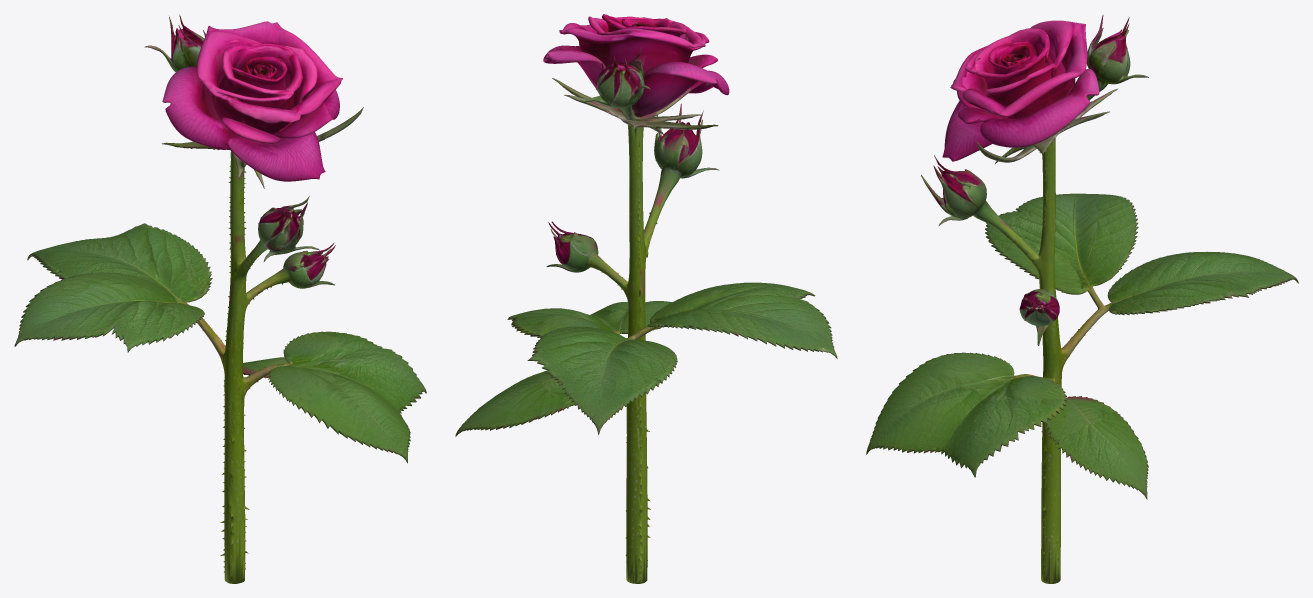
Rendered from meiguihua.glb.
3 renders of one model, left to right at view 1: azimuth 30°, elevation 25°; view 2: azimuth 150°, elevation 25°; view 3: azimuth 270°, elevation 25°, orthographic. The views are drawn at different scales.
Visible parts, largest first — view 1: node_0; view 2: node_0; view 3: node_0.
Boxes of the visible parts, x1,y1,x2,y2 form: node_0: (14, 14, 426, 583); node_0: (455, 14, 837, 583); node_0: (866, 14, 1298, 583).
Bounding box in the file's own units: 0.8216 × 1.18 × 0.8398.
Materials: 1 (1 with a texture image).
